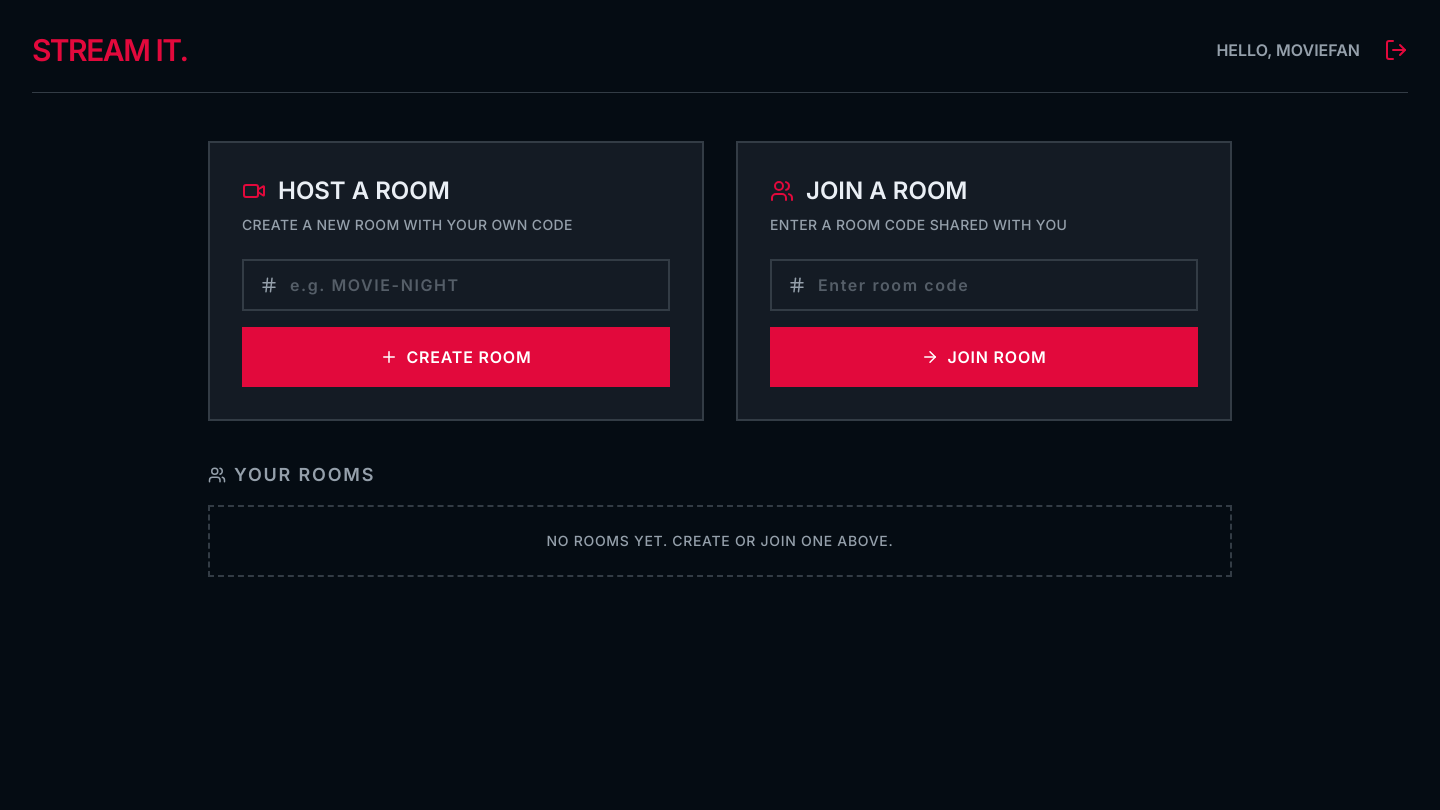
Home Component › displays error message when room creation fails on server
Step 1. Type "EXISTING-ROOM" into the field with placeholder "e.g. MOVIE-NIGHT" → (471, 285), box top-left (290, 273), bottom-right (652, 297)
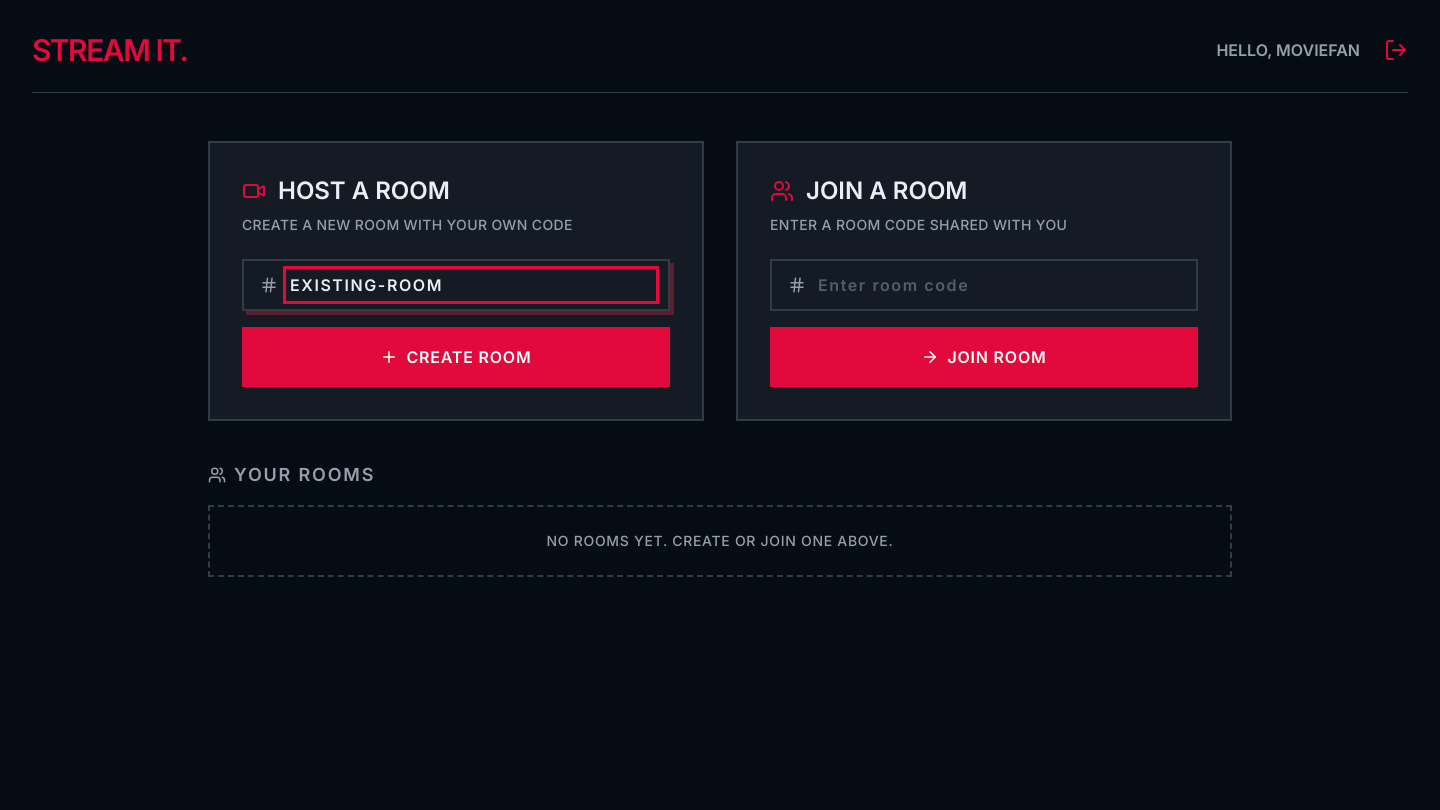
Step 2. Click the button "Create Room" → click(456, 357), box top-left (242, 327), bottom-right (670, 387)
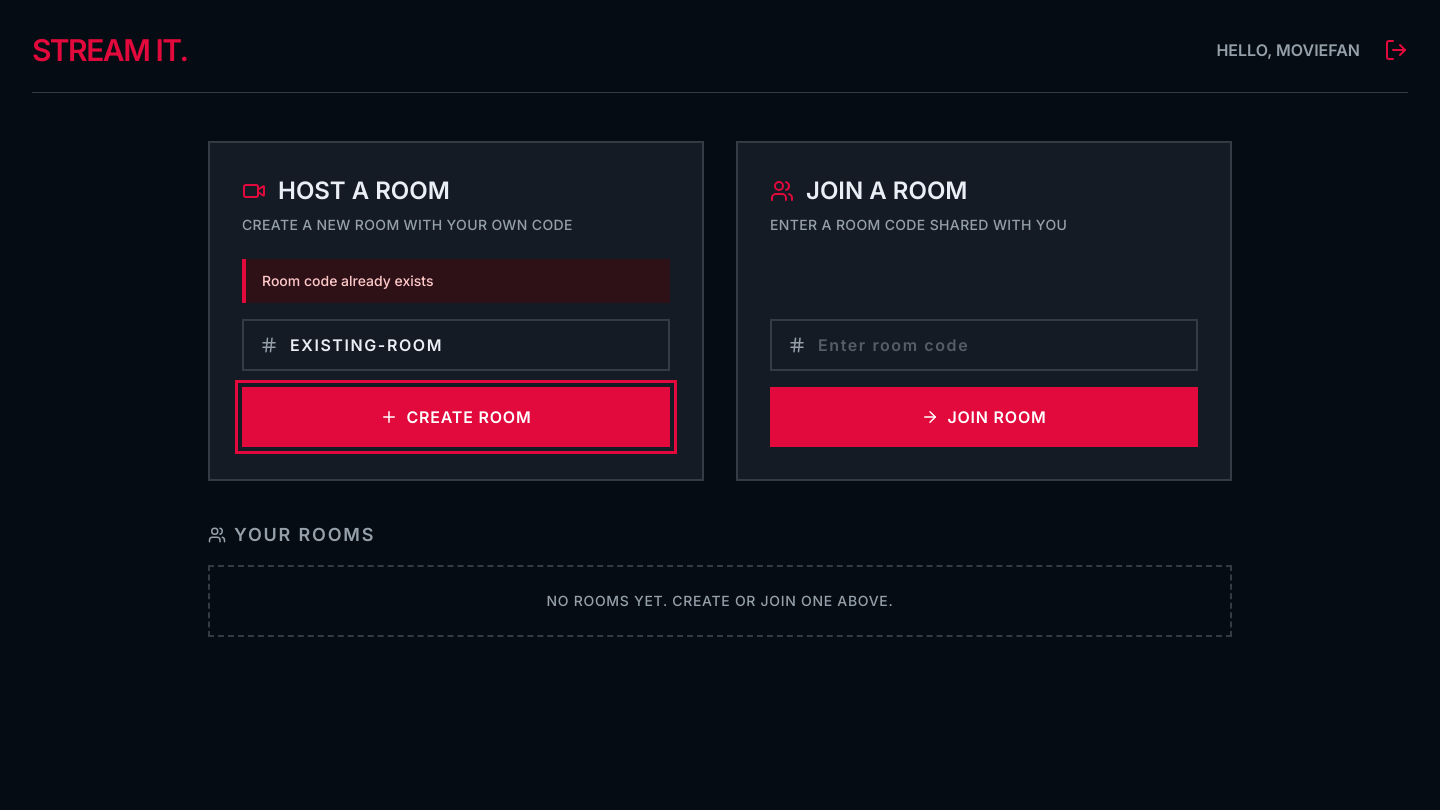
Expected: the text "Room code already exists" is shown, top-left (242, 259), bottom-right (670, 303)
